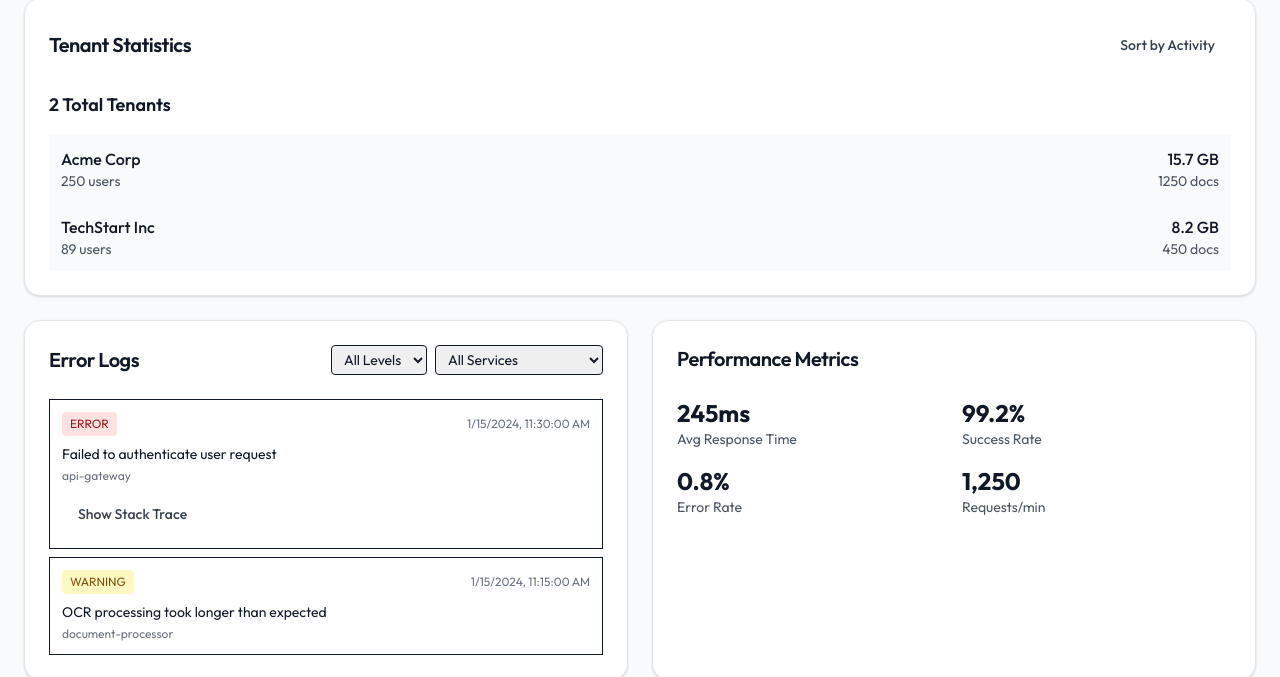
Test: AdminDashboardPage › Error Logs Viewer › should filter logs by service
(page scrolled)
Select "API Gateway" in the dropdown with test id "log-filter-service". click: (519, 360)
box: [435,345,603,375]
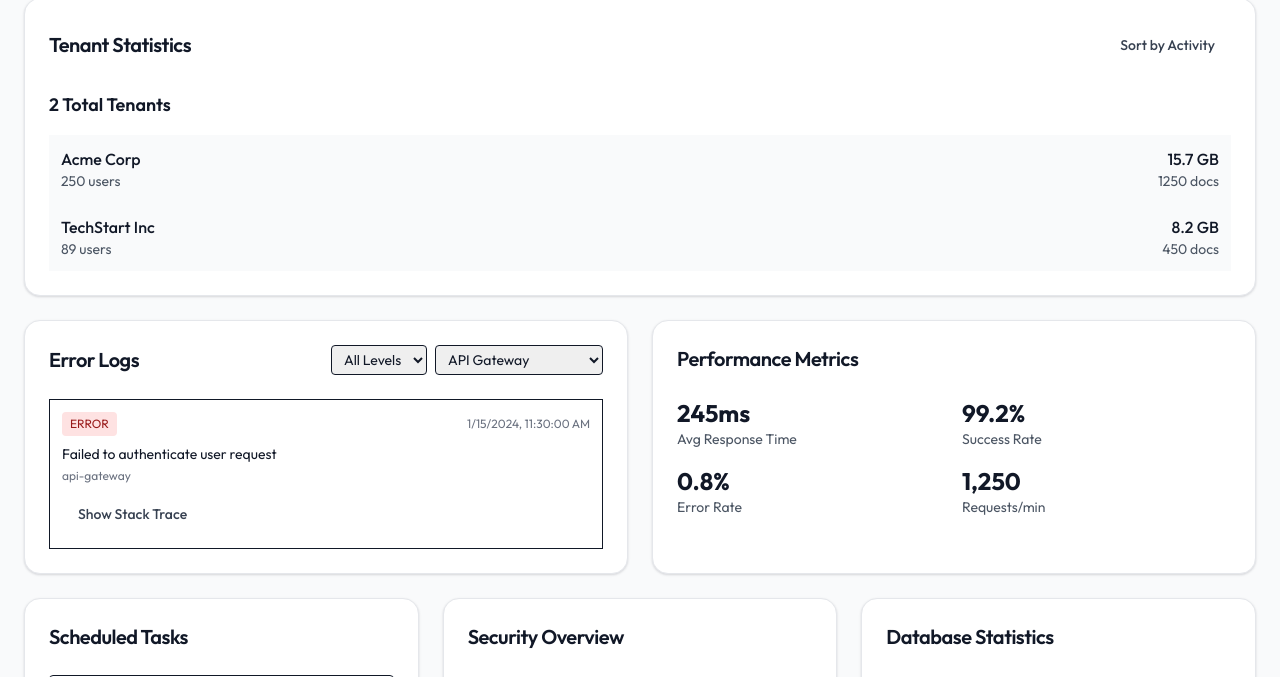
Expected: the element with test id "error-log-1" is shown, [49,399,603,549]
Result: the element with test id "warning-log-2" is gone
